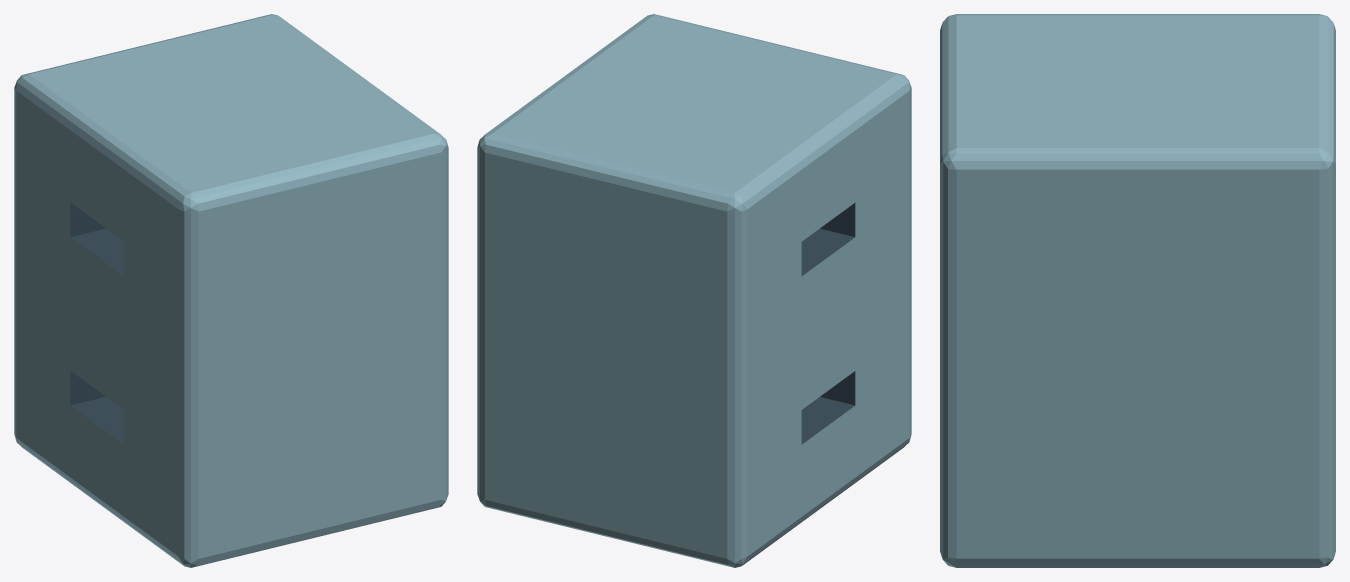
3 views of the same model, side by side, from view 1: azimuth 30°, elevation 25°; view 2: azimuth 150°, elevation 25°; view 3: azimuth 270°, elevation 25° (orthographic). The views are drawn at different scales.
Parts seen in each view (by area): view 1: geometry_0; view 2: geometry_0; view 3: geometry_0.
Part boxes in pixels (<box>): geometry_0: <box>14,14,448,567</box>; geometry_0: <box>477,14,911,567</box>; geometry_0: <box>940,14,1335,567</box>.
Bounding box in the file's own units: 0.021 × 0.028 × 0.024.
1 material, 1 textured.
